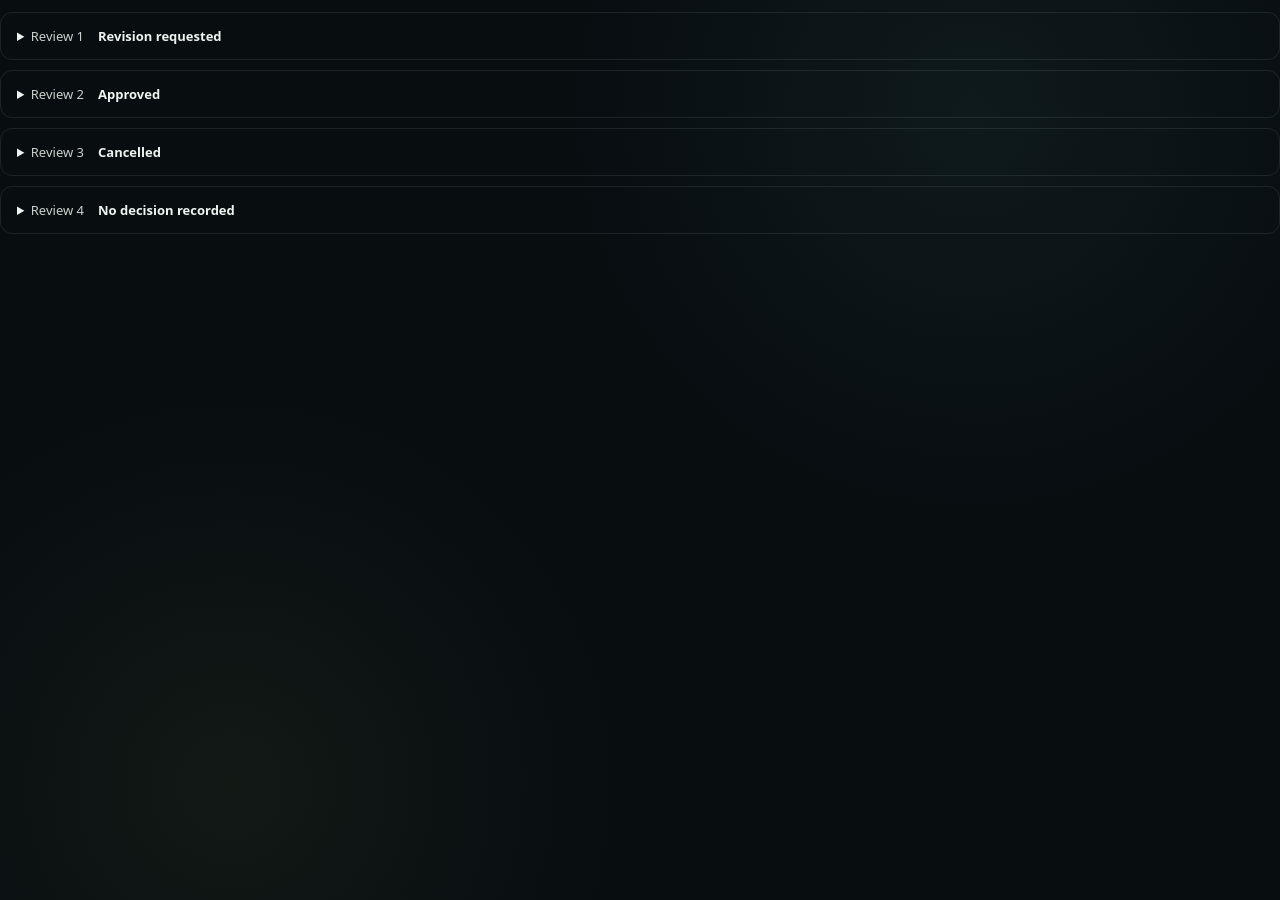
it: renders recorded decisions and feedback as text with no mutation controls
Expected: the text "Approved" is shown, [98,85,160,103]
Expected: the text "Cancelled" is shown, [98,143,161,161]
Click the text "Revision requested": (160, 36) [98,27,222,45]
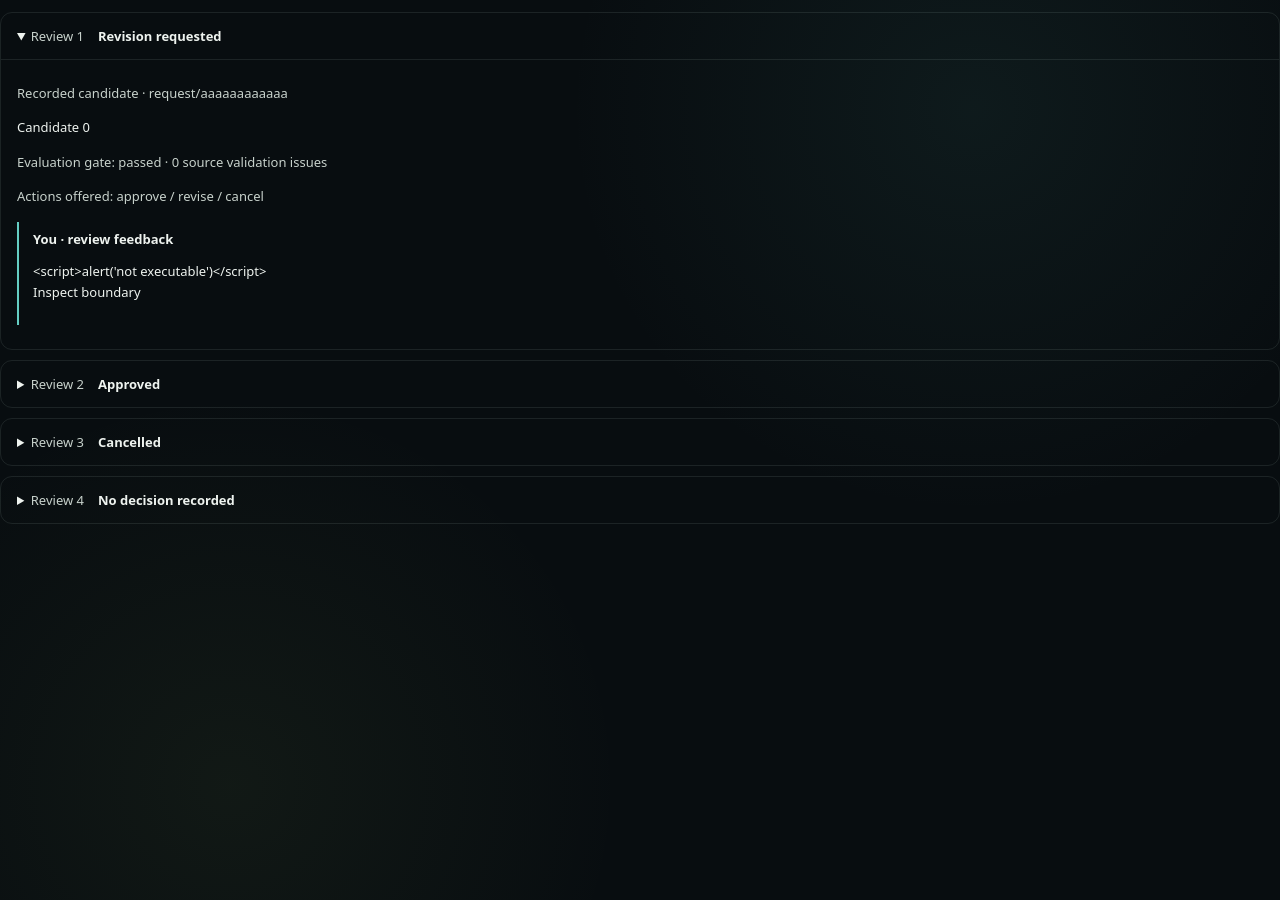
Expected: the text "<script>alert('not executable')</script> Inspect boundary" is shown, [33,262,266,301]
